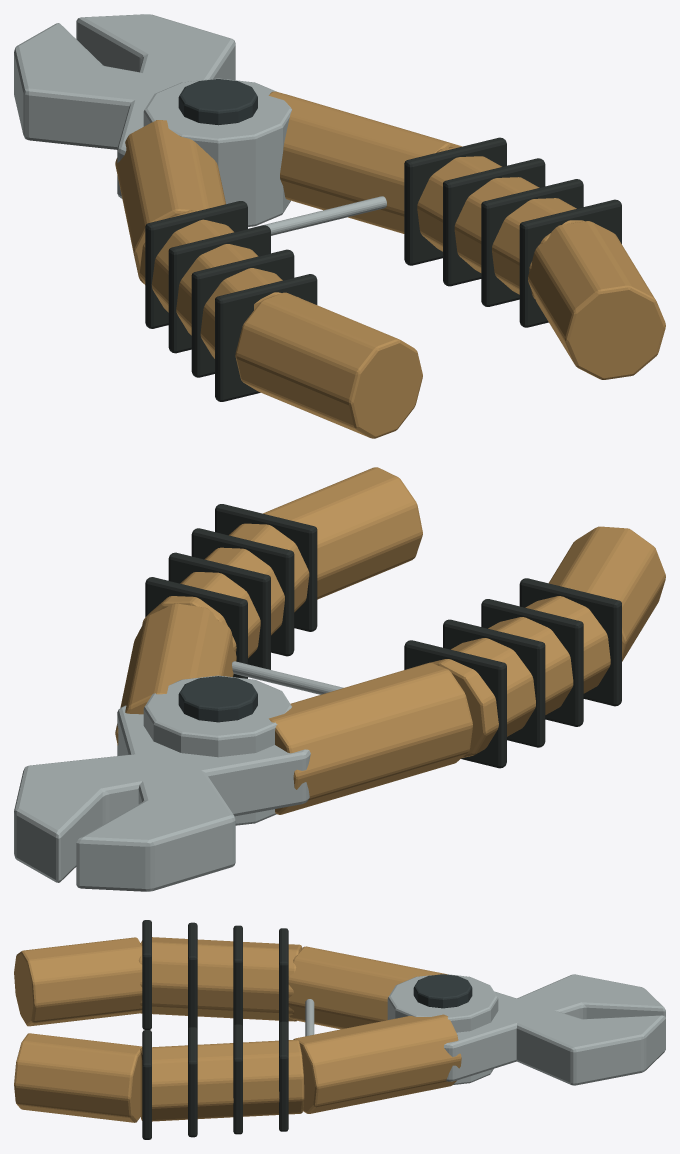
File: cutters.glb
3 renders of one model, top to bottom at view 1: azimuth 30°, elevation 25°; view 2: azimuth 150°, elevation 25°; view 3: azimuth 270°, elevation 25°, orthographic. The views are drawn at different scales.
Visible parts, largest first — view 1: DE_Cutters; view 2: DE_Cutters; view 3: DE_Cutters.
Part boxes in pixels (left/top/right/bottom): DE_Cutters: left=14, top=14, right=665, bottom=438; DE_Cutters: left=14, top=467, right=665, bottom=891; DE_Cutters: left=14, top=920, right=665, bottom=1139.
Bounding box in the file's own units: 0.106 × 0.028 × 0.2005.
